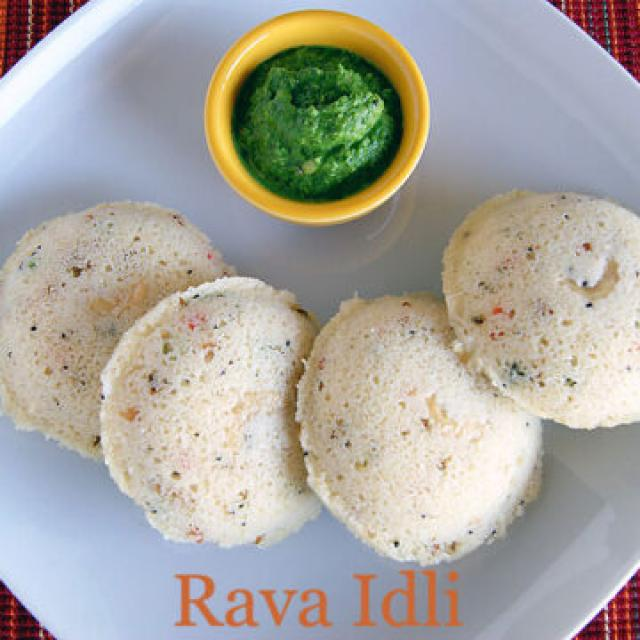rave idli: (292, 285, 549, 572), (89, 269, 316, 559), (0, 190, 222, 471), (435, 180, 640, 435)
